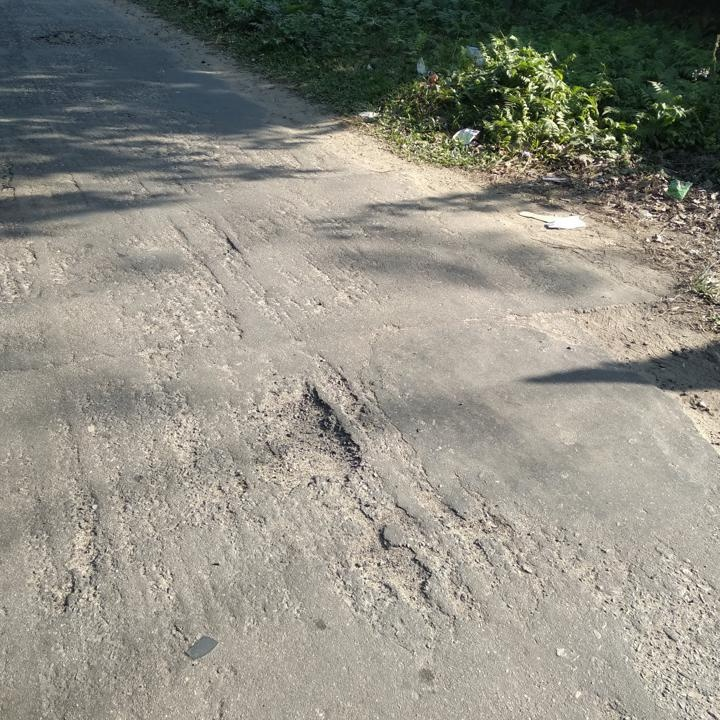pothole: (271, 379, 367, 483), (352, 530, 438, 606)
